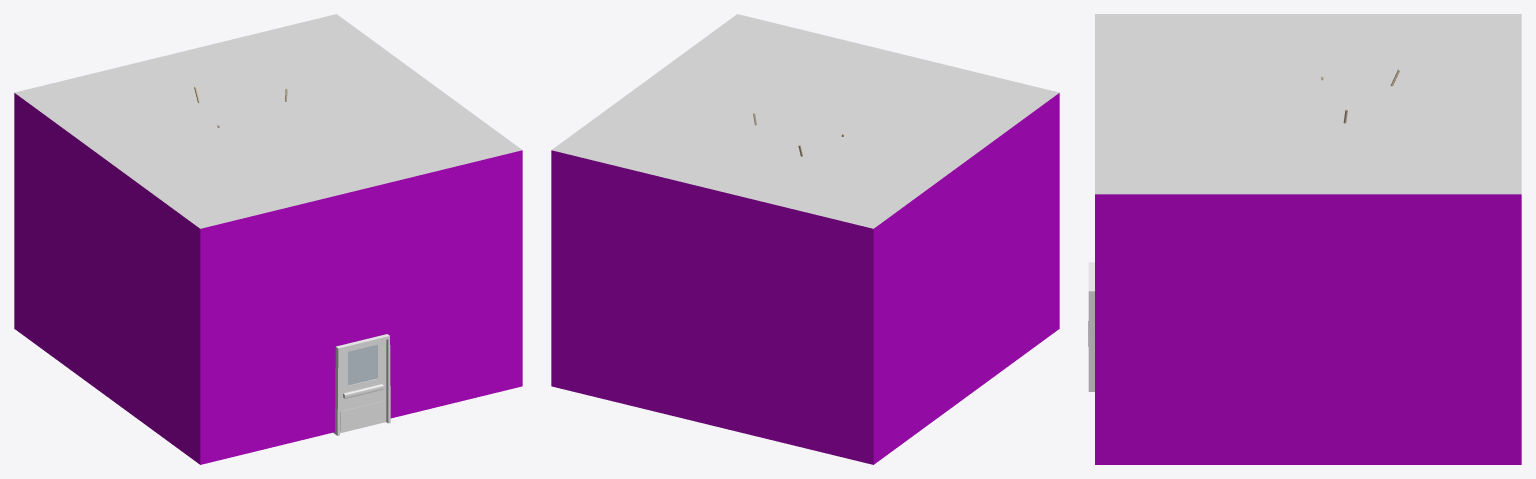
File: Level4.fbx
The picture shows the model from 3 angles, left to right: view 1: azimuth 30°, elevation 25°; view 2: azimuth 150°, elevation 25°; view 3: azimuth 270°, elevation 25°; orthographic projection. The views are drawn at different scales.
Parts seen in each view (by area): view 1: Back, Ceiling, Left, door, doorframe, window, metal protector; view 2: Front, Ceiling, Left; view 3: Right, Ceiling, doorframe.
Boxes of the visible parts, box(x1,y1,x2,y2) form: Back: box(200, 150, 522, 464); Ceiling: box(15, 14, 522, 228); Left: box(14, 93, 200, 464); door: box(340, 340, 386, 433); doorframe: box(333, 334, 390, 435); window: box(348, 345, 376, 385); metal protector: box(340, 400, 385, 430); Front: box(551, 150, 873, 464); Ceiling: box(551, 14, 1058, 228); Left: box(873, 93, 1059, 464); Right: box(1095, 194, 1521, 464); Ceiling: box(1095, 14, 1521, 194); doorframe: box(1088, 262, 1094, 391).
Bounding box in the file's own units: 1000 × 747 × 1015.
